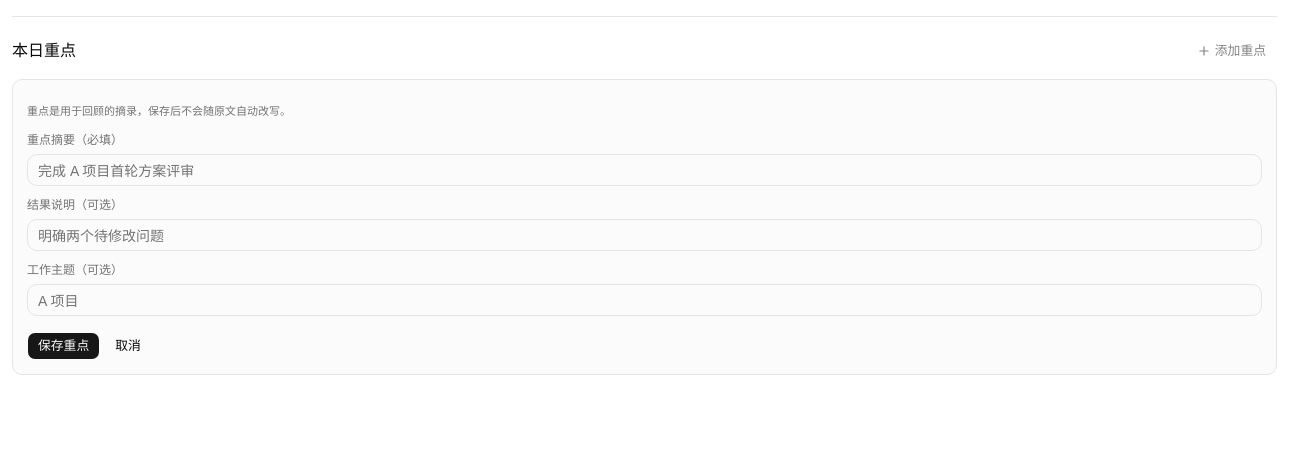
Test: keeps the draft and displays the error when saving fails
The width and height of the screenshot is (1292, 449).
Replace the text in the field labelled "重点摘要（必填）" with "待保存的重点": (644,170) [27, 154, 1262, 186]
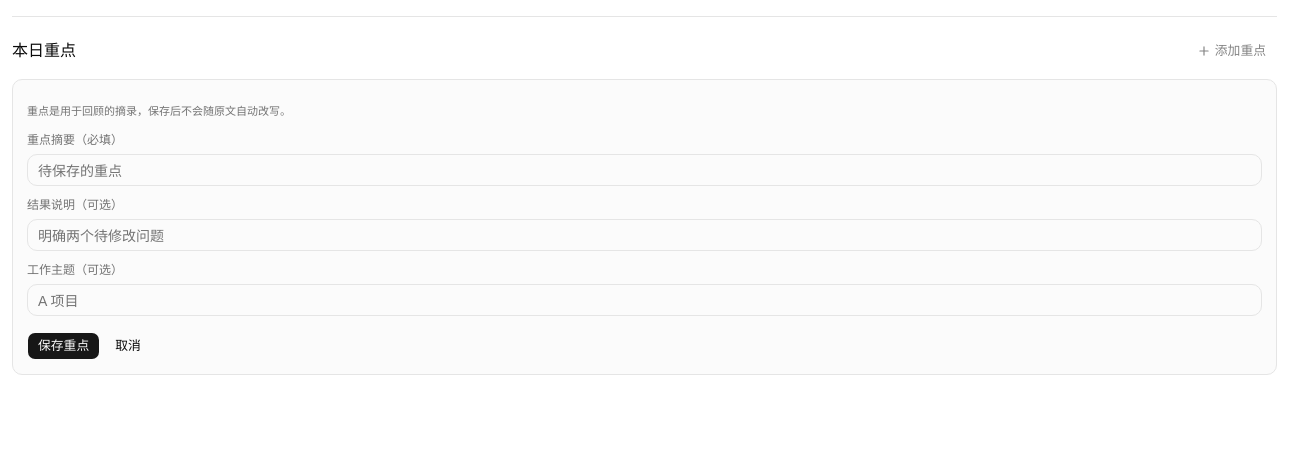
Click the button "保存重点": (64,346) [27, 332, 100, 360]
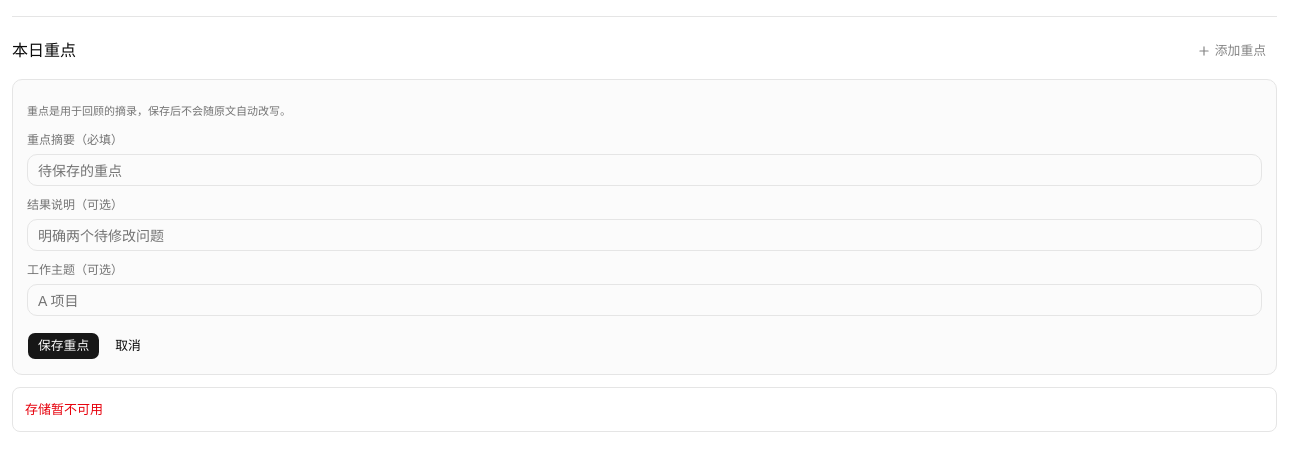
expect the text "存储暂不可用" is shown: met, box [12, 387, 1277, 432]
